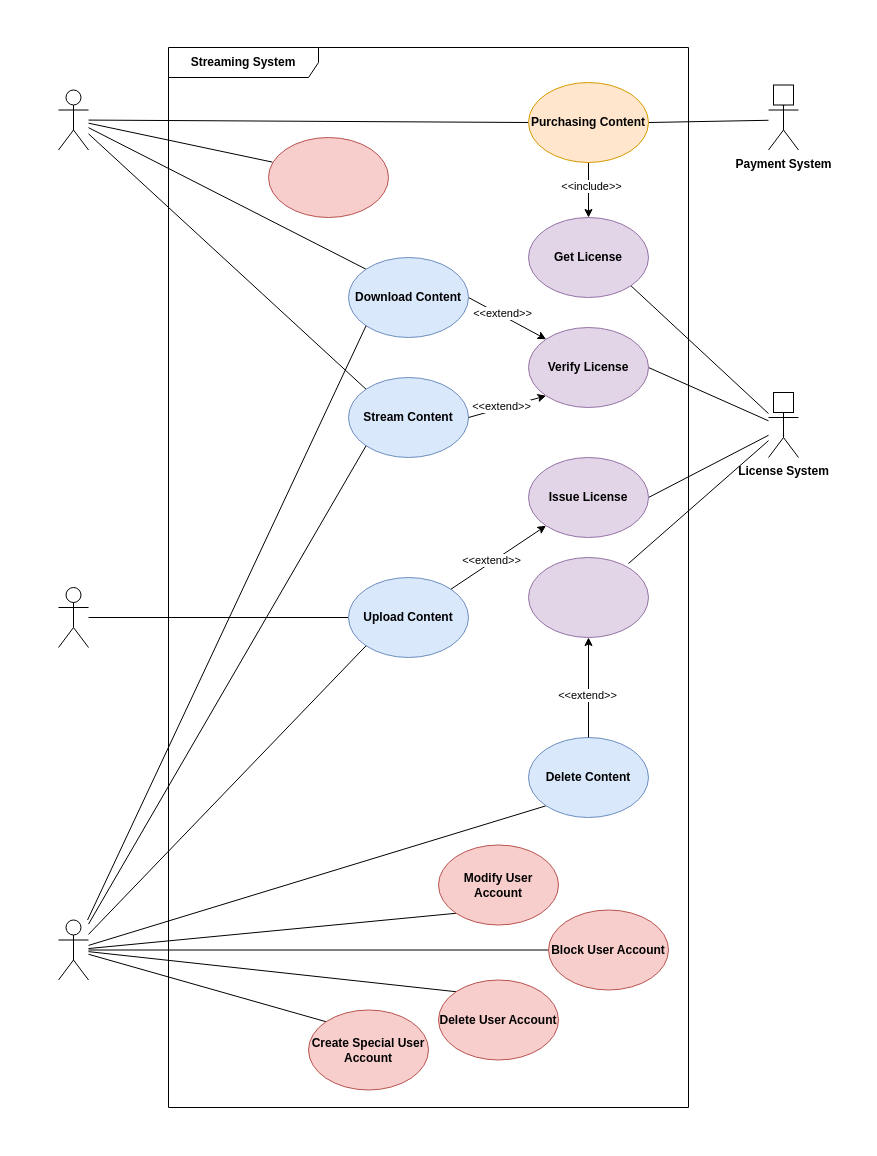
Image size: 877x1156. Some labels were removed from this diagram. The centre of each missing label's shape, as x and y in pixels:
Administrator: pixel 73 949
Content Creator: pixel 73 617
End User: pixel 73 119
Register Account: pixel 328 177
Remove License: pixel 588 597
